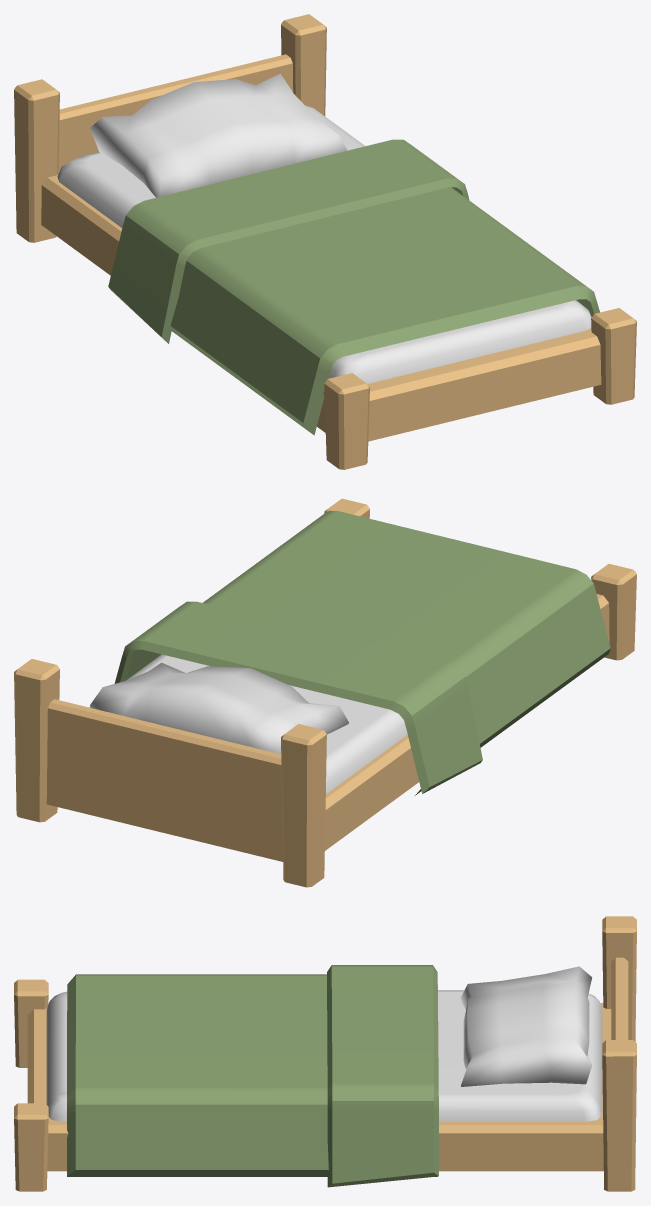
The model's file is bed_solo_01.fbx.
3 views of the same model, one above another, from view 1: azimuth 30°, elevation 25°; view 2: azimuth 150°, elevation 25°; view 3: azimuth 270°, elevation 25° (orthographic). The views are drawn at different scales.
Parts seen in each view (by area): view 1: pCube609, pCube608, pCube610; view 2: pCube609, pCube608, pCube610; view 3: pCube609, pCube610, pCube608.
Boxes of the visible parts, x1,y1,x2,y2 form: pCube609: [108, 139, 599, 435]; pCube608: [14, 14, 636, 469]; pCube610: [57, 73, 591, 383]; pCube609: [114, 511, 610, 795]; pCube608: [14, 498, 636, 887]; pCube610: [89, 654, 407, 793]; pCube609: [67, 965, 438, 1187]; pCube610: [46, 966, 602, 1121]; pCube608: [14, 916, 636, 1191].
Bounding box in the file's own units: 9.6 × 4.19 × 17.
